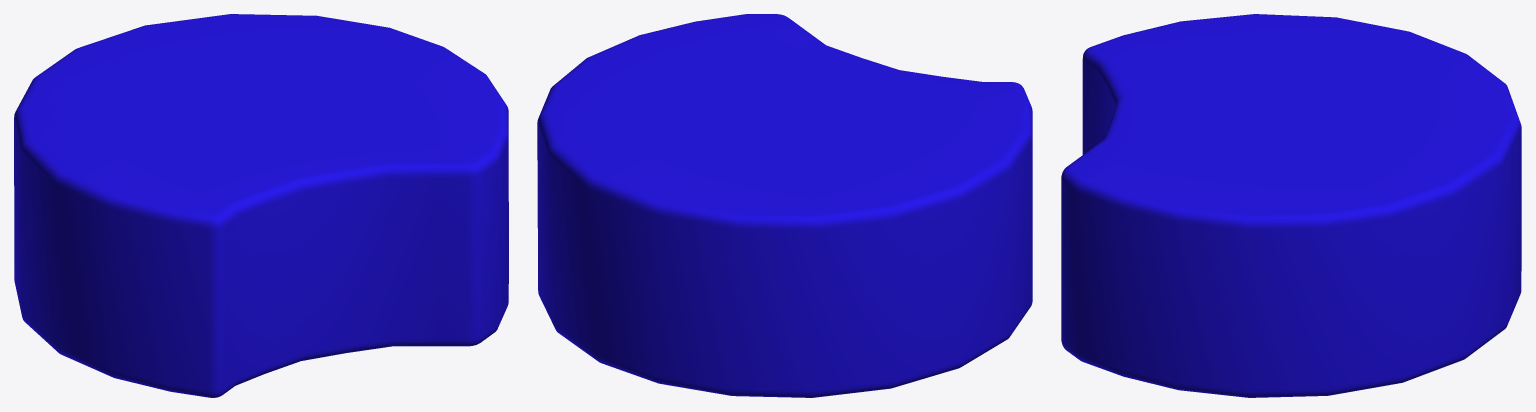
Rendered from Circular_Chair.fbx.
3 renders of one model, left to right at view 1: azimuth 30°, elevation 25°; view 2: azimuth 150°, elevation 25°; view 3: azimuth 270°, elevation 25°, orthographic.
Visible parts, largest first — view 1: Circular_Chair; view 2: Circular_Chair; view 3: Circular_Chair.
Boxes of the visible parts, <box> form: Circular_Chair: <box>14,14,508,397</box>; Circular_Chair: <box>537,14,1032,397</box>; Circular_Chair: <box>1061,14,1521,397</box>.
Size of the model in its own units: 14.78 by 6 by 13.76.
